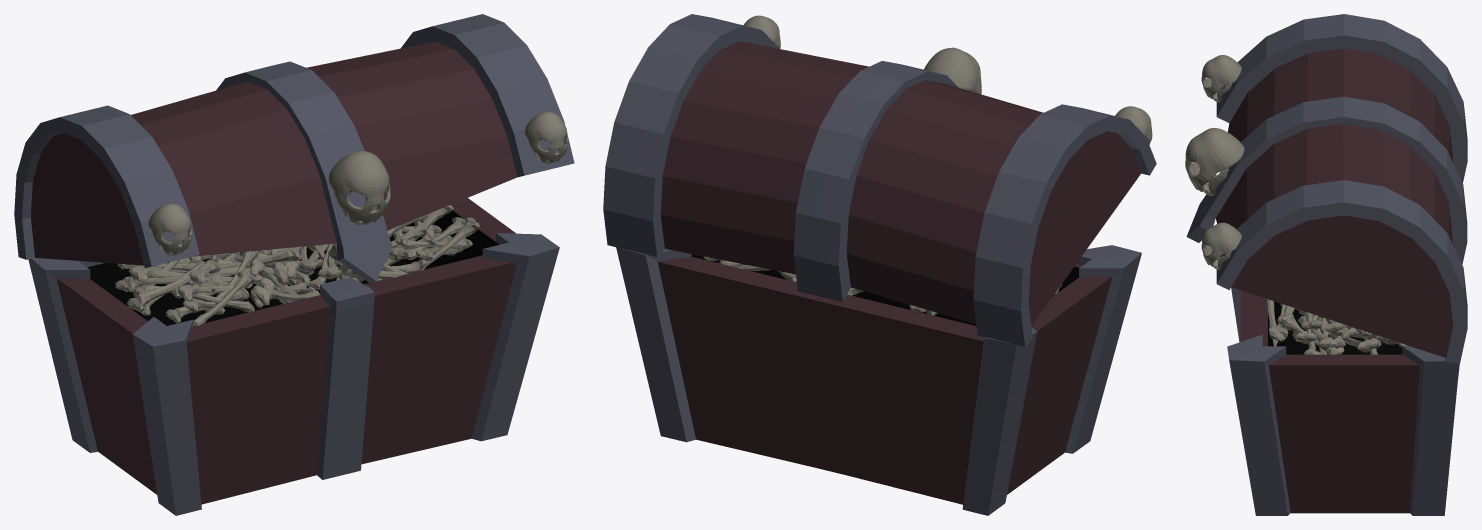
File: NoBox1.fbx
3 renders of one model, left to right at view 1: azimuth 30°, elevation 25°; view 2: azimuth 150°, elevation 25°; view 3: azimuth 270°, elevation 25°, orthographic. The views are drawn at different scales.
Parts seen in each view (by area): view 1: polySurface24.010; view 2: polySurface24.010; view 3: polySurface24.010.
Part boxes in pixels (x1,y1,x2,y2): polySurface24.010: (14,14,574,515); polySurface24.010: (603,14,1156,515); polySurface24.010: (1185,14,1467,515).
Size of the model in its own units: 296 by 245 by 188.
